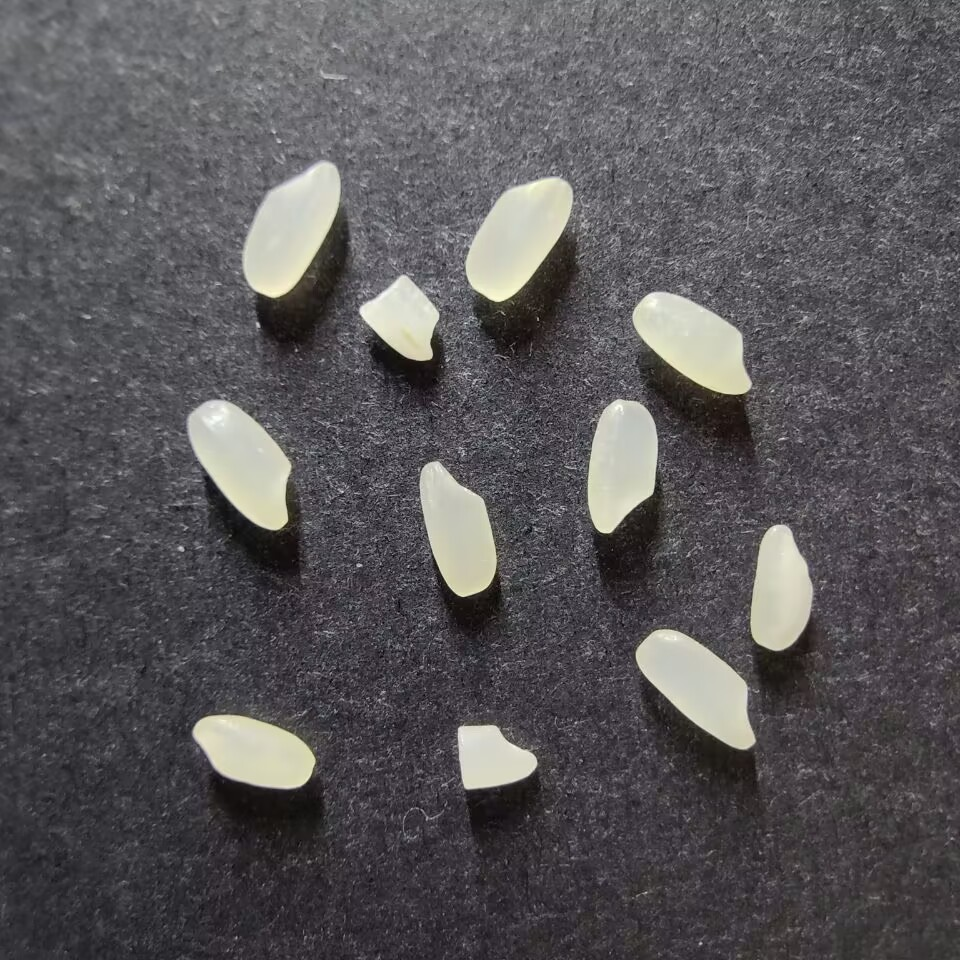broken: (358, 274, 439, 362), (456, 724, 538, 789)
rice: (634, 628, 757, 750), (464, 177, 573, 302), (187, 400, 291, 530), (242, 161, 341, 297), (631, 291, 752, 395), (418, 460, 496, 596), (586, 399, 658, 534), (191, 714, 315, 789), (749, 523, 814, 651)
